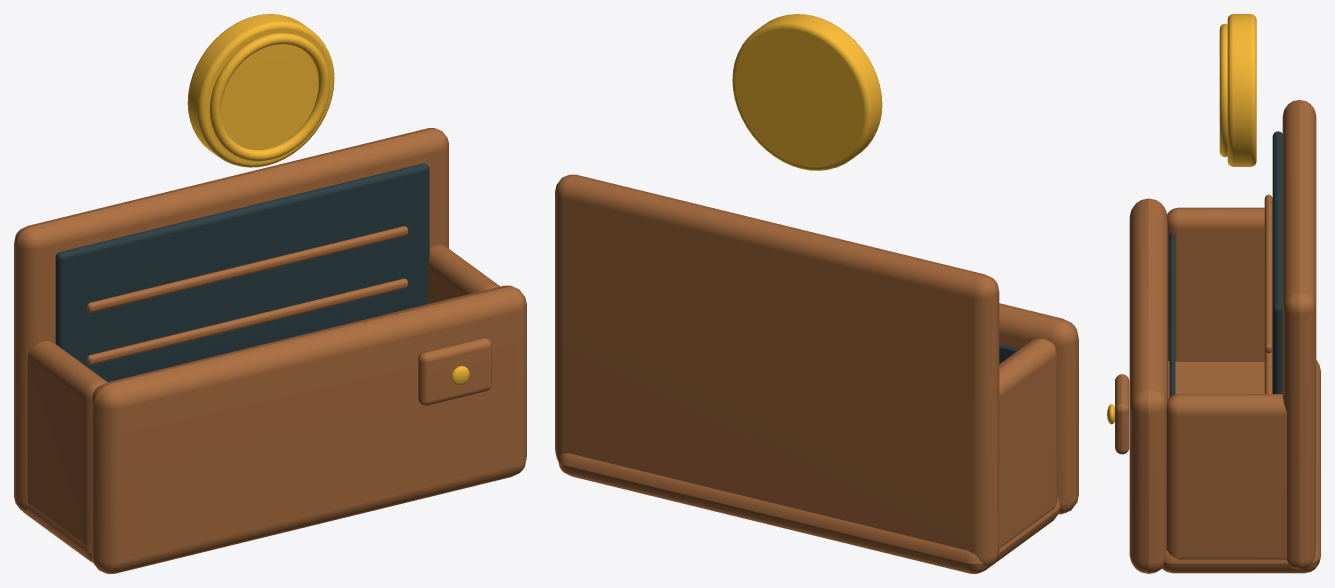
Rendered from hero-start.glb.
3 views of the same model, side by side, from view 1: azimuth 30°, elevation 25°; view 2: azimuth 150°, elevation 25°; view 3: azimuth 270°, elevation 25° (orthographic). The views are drawn at different scales.
Parts seen in each view (by area): view 1: Wallet front leather panel, Empty rear pocket lining, Wallet rear leather panel, Single first coin, Wallet side gusset, Single first coin rim, Leather snap tab, Empty card slot leather edge, Empty card slot leather edge.001, Wallet side gusset.001, Wallet lower folded edge; view 2: Wallet rear leather panel, Single first coin, Wallet side gusset, Wallet lower folded edge, Wallet front leather panel; view 3: Wallet side gusset.001, Wallet rear leather panel, Wallet side gusset, Wallet front leather panel, Wallet lower folded edge, Single first coin, Empty rear pocket lining, Empty card slot leather edge.001, Single first coin rim, Leather snap tab, Wallet front empty inner lining, Empty card slot leather edge.
Boxes of the visible parts, left/top/right/bottom form: Wallet front leather panel: left=91, top=285, right=526, bottom=573; Empty rear pocket lining: left=55, top=163, right=429, bottom=381; Wallet rear leather panel: left=14, top=128, right=448, bottom=511; Single first coin: left=187, top=14, right=334, bottom=167; Wallet side gusset: left=27, top=341, right=107, bottom=545; Single first coin rim: left=209, top=33, right=329, bottom=161; Leather snap tab: left=418, top=338, right=491, bottom=405; Empty card slot leather edge: left=86, top=278, right=408, bottom=364; Empty card slot leather edge.001: left=86, top=226, right=408, bottom=312; Wallet side gusset.001: left=427, top=245, right=499, bottom=303; Wallet lower folded edge: left=22, top=505, right=92, bottom=562; Wallet rear leather panel: left=555, top=174, right=999, bottom=566; Single first coin: left=732, top=14, right=882, bottom=170; Wallet side gusset: left=999, top=338, right=1057, bottom=548; Wallet lower folded edge: left=558, top=453, right=1060, bottom=573; Wallet front leather panel: left=999, top=303, right=1078, bottom=514; Wallet side gusset.001: left=1166, top=394, right=1286, bottom=559; Wallet rear leather panel: left=1282, top=100, right=1316, bottom=570; Wallet side gusset: left=1167, top=207, right=1264, bottom=361; Wallet front leather panel: left=1129, top=198, right=1167, bottom=573; Wallet lower folded edge: left=1162, top=360, right=1320, bottom=573; Single first coin: left=1227, top=14, right=1256, bottom=166; Empty rear pocket lining: left=1272, top=131, right=1282, bottom=393; Empty card slot leather edge.001: left=1264, top=194, right=1272, bottom=353; Single first coin rim: left=1219, top=23, right=1227, bottom=157; Leather snap tab: left=1115, top=374, right=1129, bottom=454; Wallet front empty inner lining: left=1169, top=232, right=1175, bottom=396; Empty card slot leather edge: left=1264, top=350, right=1272, bottom=393.
Bounding box in the file's own units: 1.95 × 2.04 × 0.8613.
